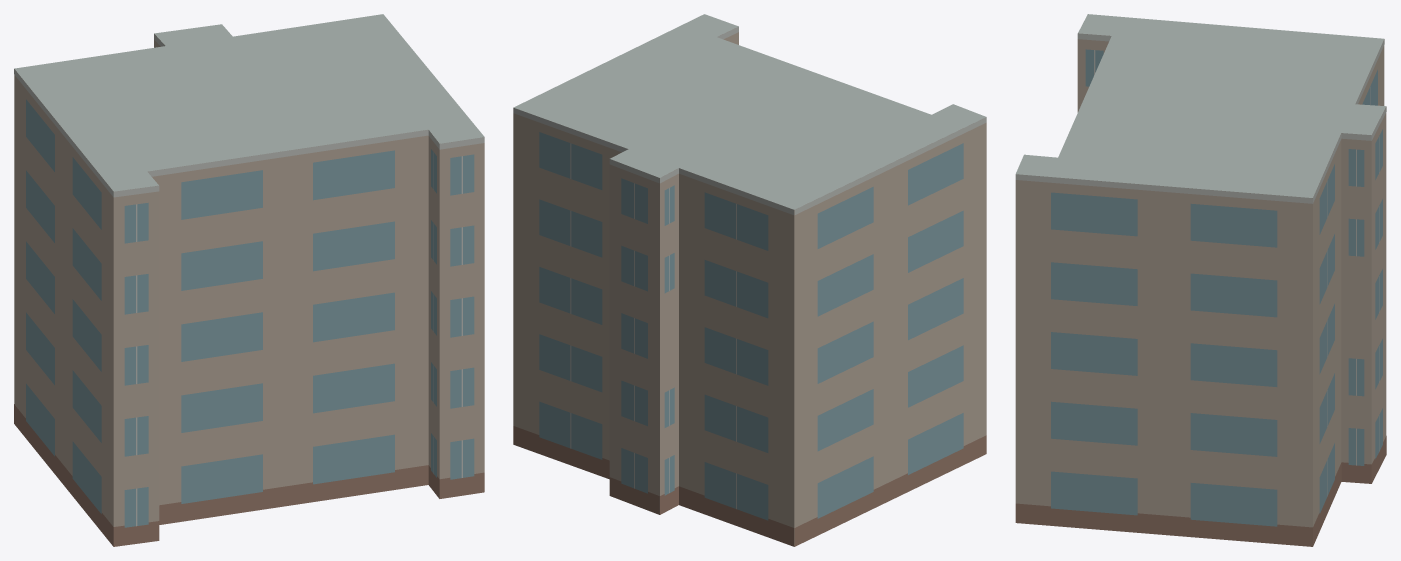
The model's file is survey-upis-32704932.glb.
3 renders of one model, left to right at view 1: azimuth 30°, elevation 25°; view 2: azimuth 150°, elevation 25°; view 3: azimuth 270°, elevation 25°, orthographic. The views are drawn at different scales.
Parts seen in each view (by area): view 1: survey-upis-32704932.tmp; view 2: survey-upis-32704932.tmp; view 3: survey-upis-32704932.tmp.
Part boxes in pixels (left/top/right/bottom): survey-upis-32704932.tmp: left=14, top=14, right=484, bottom=546; survey-upis-32704932.tmp: left=513, top=14, right=986, bottom=546; survey-upis-32704932.tmp: left=1015, top=14, right=1386, bottom=546.
Bounding box in the file's own units: 16.76 × 14.8 × 14.27.
